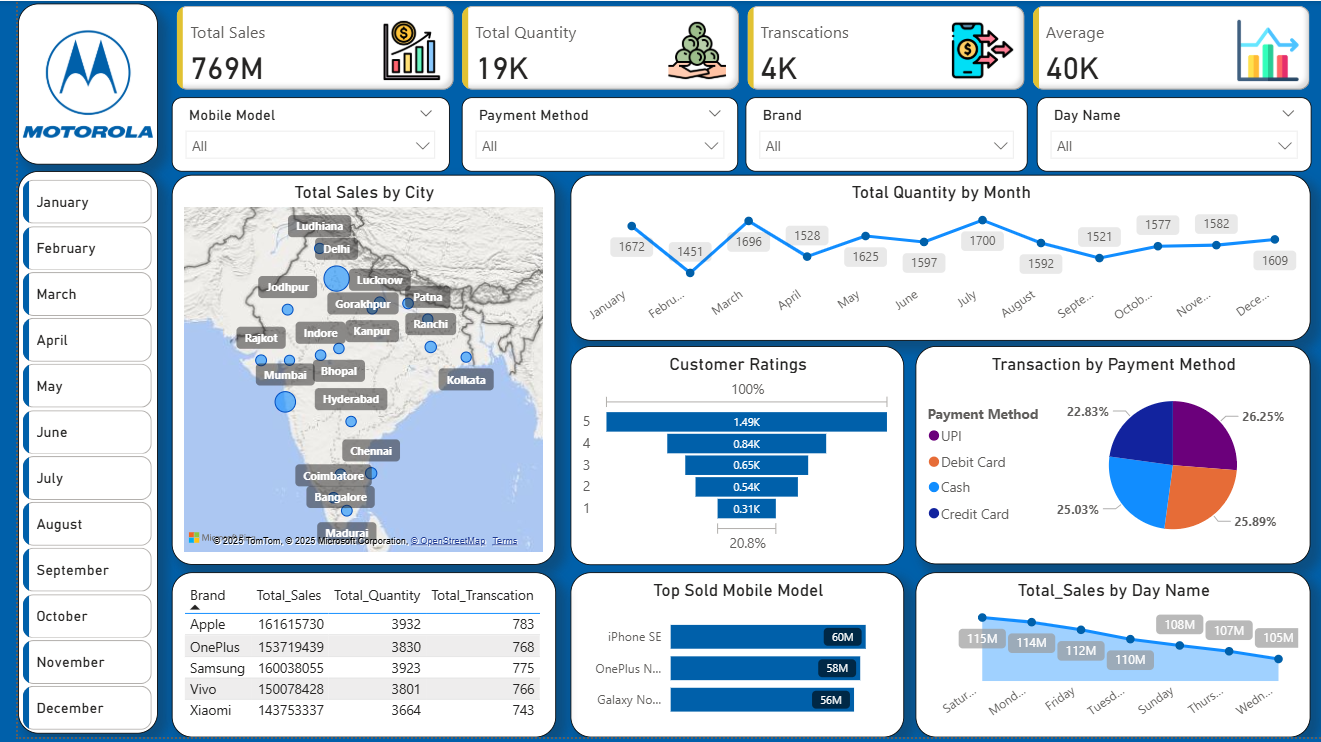

The dashboard page shown, as its layout file describes it:
{"tool":"powerbi","page":{"name":"Page 1","canvas":[1280,720],"ordinal":0},"visuals":[{"type":"shape","box":[0,2.4,137,157.7],"z":0},{"type":"image","box":[0,2.4,137,157.7],"z":1000},{"type":"shape","box":[0,166.3,137,550.3],"z":2000},{"type":"advancedSlicerVisual","fields":{"Values":["Sales_Data.Date.Variation.Date Hierarchy.Month"]},"box":[0,170,137,550.3],"z":3000},{"type":"cardVisual","fields":{"Data":["Sales_Data.Total_Sales","Sales_Data.Total_Quantity","Sales_Data.Total_Transcation","Sales_Data.Average"]},"box":[150.4,0,1121.3,94.2],"z":4000},{"type":"map","title":"Total Sales by City","fields":{"Category":["Sales_Data.City"],"Size":["Sales_Data.Total_Sales"]},"box":[150.4,170,375.4,381.5],"z":5000},{"type":"lineChart","title":"Total Quantity by Month","fields":{"Y":["Sales_Data.Total_Quantity"],"Category":["Sales_Data.Date.Variation.Date Hierarchy.Month","Sales_Data.Date.Variation.Date Hierarchy.Day"]},"box":[540.5,170,723.9,162.6],"z":6000},{"type":"clusteredBarChart","title":"Top Sold Mobile Model","fields":{"Category":["Sales_Data.Mobile Model"],"Y":["Sales_Data.Total_Sales"]},"box":[540.7,558.5,326.6,161.9],"z":7000},{"type":"pieChart","title":"Transaction by Payment Method","fields":{"Category":["Sales_Data.Payment Method"],"Y":["Sales_Data.Total_Transcation"]},"box":[878,337.5,386.4,214],"z":8000},{"type":"funnel","title":"Customer Ratings","fields":{"Category":["Sales_Data.Customer Ratings"],"Y":["CountNonNull(Sales_Data.Customer Ratings)"]},"box":[540.7,337.6,326.6,214.1],"z":9000},{"type":"areaChart","fields":{"Category":["Sales_Data.Day Name"],"Y":["Sales_Data.Total_Sales"]},"box":[878,558.8,386.4,161.4],"z":10000},{"type":"tableEx","fields":{"Values":["Sales_Data.Brand","Sales_Data.Total_Sales","Sales_Data.Total_Quantity","Sales_Data.Total_Transcation"]},"box":[150.9,558.5,376,161.9],"z":11000},{"type":"slicer","fields":{"Values":["Sales_Data.Mobile Model"]},"box":[150.9,94.7,271.7,72.7],"z":12000},{"type":"slicer","fields":{"Values":["Sales_Data.Payment Method"]},"box":[433.6,94.7,270.3,72.7],"z":12001},{"type":"slicer","fields":{"Values":["Sales_Data.Brand"]},"box":[712.2,94.7,275.8,72.7],"z":12002},{"type":"slicer","fields":{"Values":["Sales_Data.Day Name"]},"box":[996.2,94.7,269,72.7],"z":12003}]}

Visuals, with their boxes in screenshot pixels (x1, y1, x2, y2), scaled from the page's 1280x720 canvas onto the 1321x742 screenshot:
shape: l=0, t=2, r=141, b=165
image: l=0, t=2, r=141, b=165
shape: l=0, t=171, r=141, b=738
advancedSlicerVisual - Sales_Data.Date.Variation.Date Hierarchy.Month: l=0, t=175, r=141, b=741
cardVisual - Sales_Data.Total_Sales x Sales_Data.Total_Quantity: l=155, t=0, r=1312, b=97
"Total Sales by City" map: l=155, t=175, r=543, b=568
"Total Quantity by Month" lineChart: l=558, t=175, r=1305, b=343
"Top Sold Mobile Model" clusteredBarChart: l=558, t=576, r=895, b=741
"Transaction by Payment Method" pieChart: l=906, t=348, r=1305, b=568
"Customer Ratings" funnel: l=558, t=348, r=895, b=569
areaChart - Sales_Data.Day Name x Sales_Data.Total_Sales: l=906, t=576, r=1305, b=741
tableEx - Sales_Data.Brand x Sales_Data.Total_Sales: l=156, t=576, r=544, b=741
slicer - Sales_Data.Mobile Model: l=156, t=98, r=436, b=173
slicer - Sales_Data.Payment Method: l=447, t=98, r=726, b=173
slicer - Sales_Data.Brand: l=735, t=98, r=1020, b=173
slicer - Sales_Data.Day Name: l=1028, t=98, r=1306, b=173
